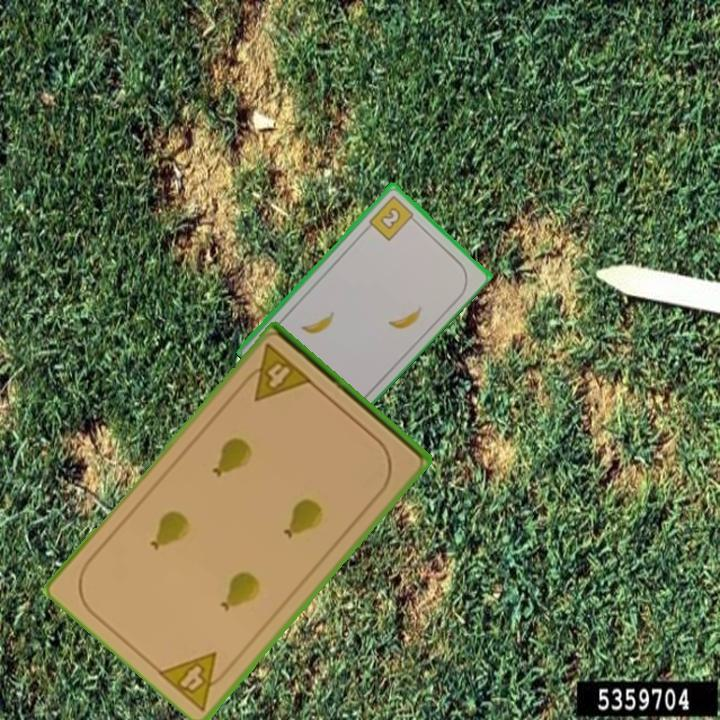2b: (365, 191, 420, 243)
4p: (154, 648, 237, 714), (237, 340, 315, 405)
